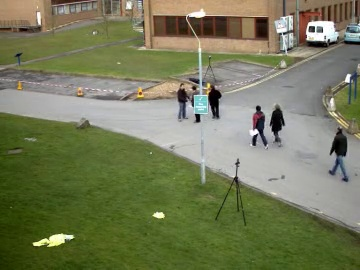person: (177, 80, 197, 119), (177, 81, 197, 120), (177, 80, 197, 118)
